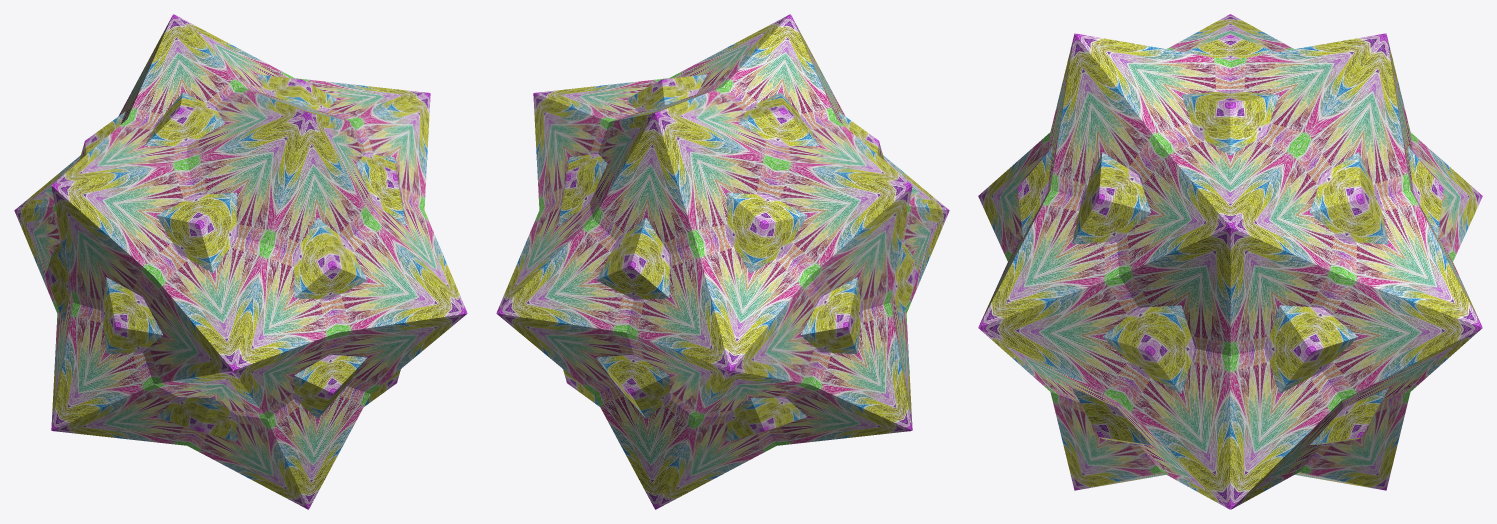
The model's file is GreatDitrigonalDodecacronicHexecontahedron7.obj.
3 renders of one model, left to right at view 1: azimuth 30°, elevation 25°; view 2: azimuth 150°, elevation 25°; view 3: azimuth 270°, elevation 25°, orthographic. The views are drawn at different scales.
Size of the model in its own units: 2.35 by 2.35 by 2.35.
1 material, 1 textured.
